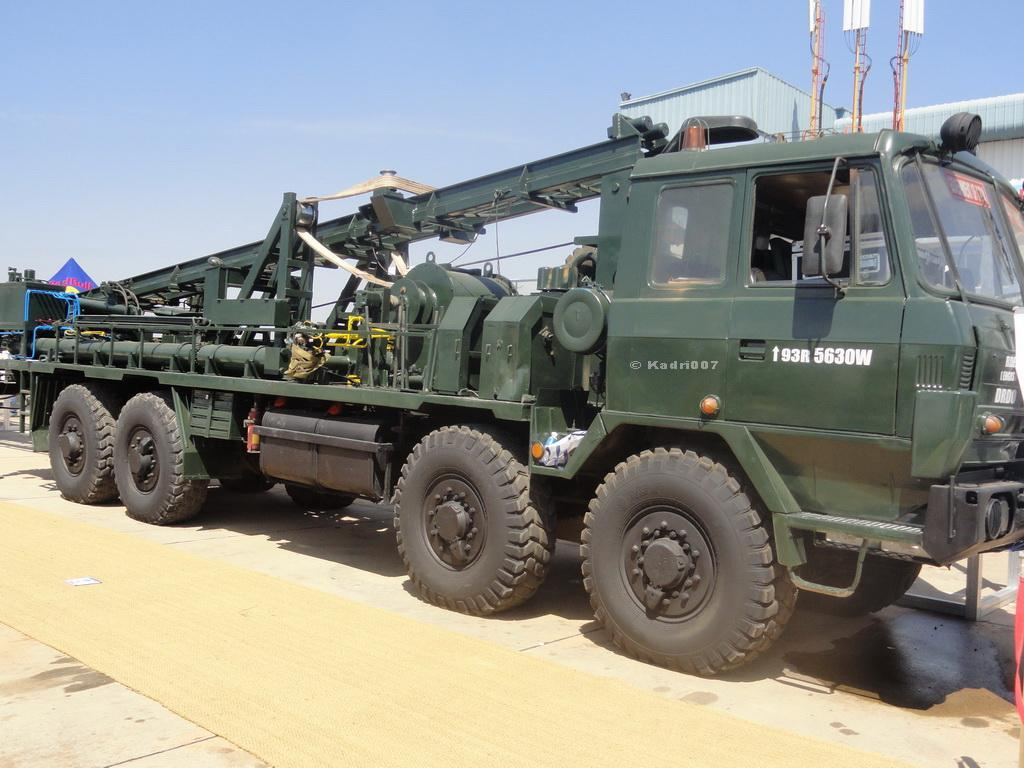truck: (34, 72, 998, 667)
